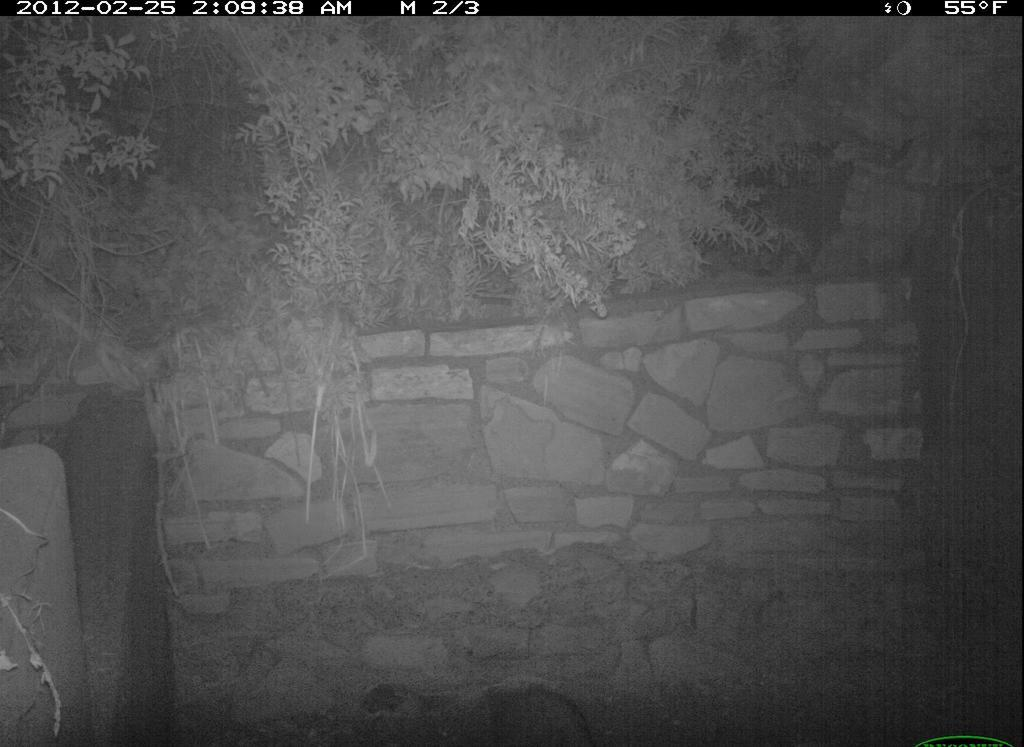raccoon: (469, 670, 603, 745)
